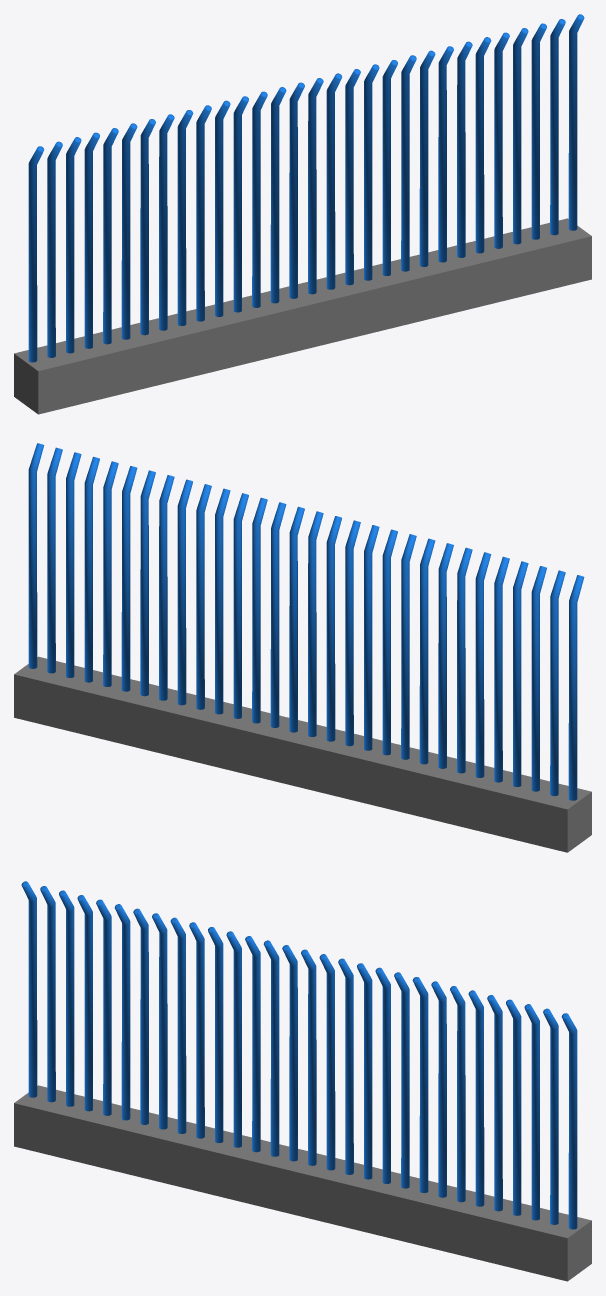
File: muro-base.fbx
3 views of the same model, one above another, from view 1: azimuth 30°, elevation 25°; view 2: azimuth 150°, elevation 25°; view 3: azimuth 330°, elevation 25° (orthographic).
Visible parts, largest first — view 1: muro-barras, muro-concreto; view 2: muro-barras, muro-concreto; view 3: muro-barras, muro-concreto.
Boxes of the visible parts, x1,y1,x2,y2 form: muro-barras: (28, 14, 584, 362); muro-concreto: (14, 218, 591, 414); muro-barras: (28, 443, 584, 800); muro-concreto: (14, 656, 591, 852); muro-barras: (21, 881, 577, 1229); muro-concreto: (14, 1085, 591, 1281).
Size of the model in its own units: 1209 by 548 by 92.02.
